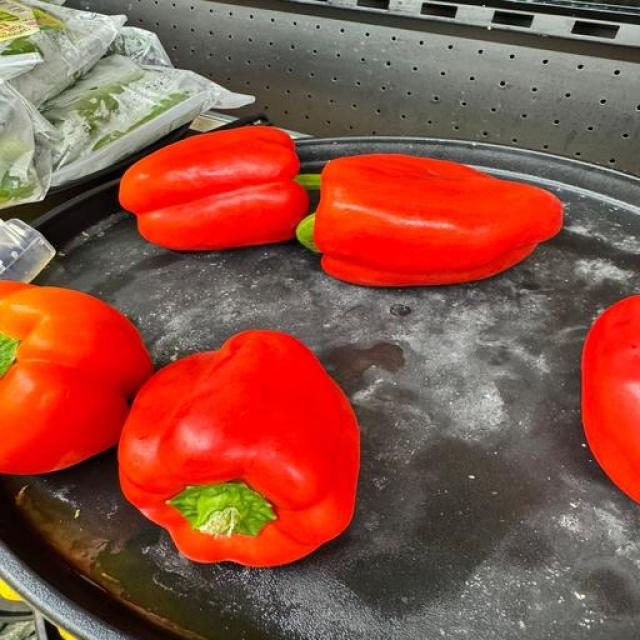organic: (119, 330, 359, 567), (119, 330, 359, 566), (314, 155, 562, 286), (0, 282, 152, 473), (120, 127, 308, 249), (42, 54, 209, 179), (44, 65, 188, 151), (12, 3, 122, 109), (583, 295, 639, 502), (44, 68, 143, 136), (168, 482, 276, 536), (93, 93, 188, 151), (74, 83, 126, 134), (0, 134, 37, 204), (75, 85, 124, 134), (109, 28, 171, 66), (0, 174, 36, 204), (0, 134, 29, 166), (0, 334, 19, 378), (297, 214, 319, 252), (0, 37, 42, 56), (0, 37, 41, 56), (30, 8, 64, 29), (32, 8, 64, 29), (295, 174, 321, 191), (0, 10, 18, 22)
